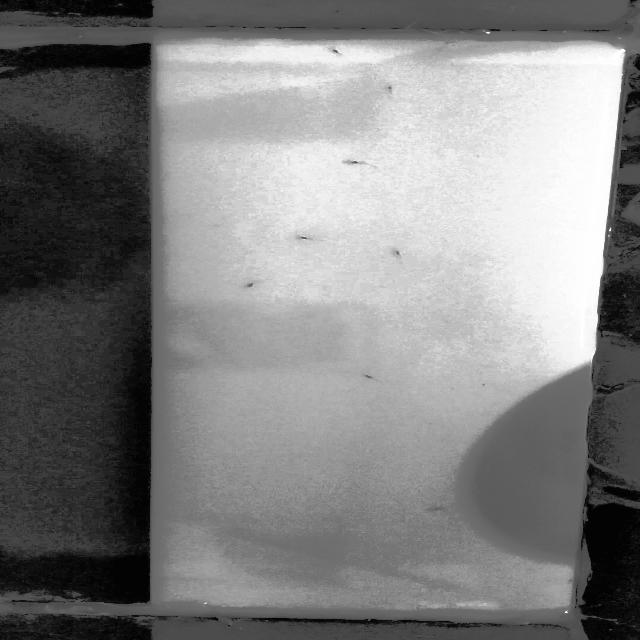shrimp: (341, 157, 377, 168), (354, 372, 388, 383), (240, 275, 262, 292), (392, 248, 414, 265), (291, 232, 320, 242), (425, 504, 450, 513), (387, 84, 398, 96), (331, 47, 346, 53)
